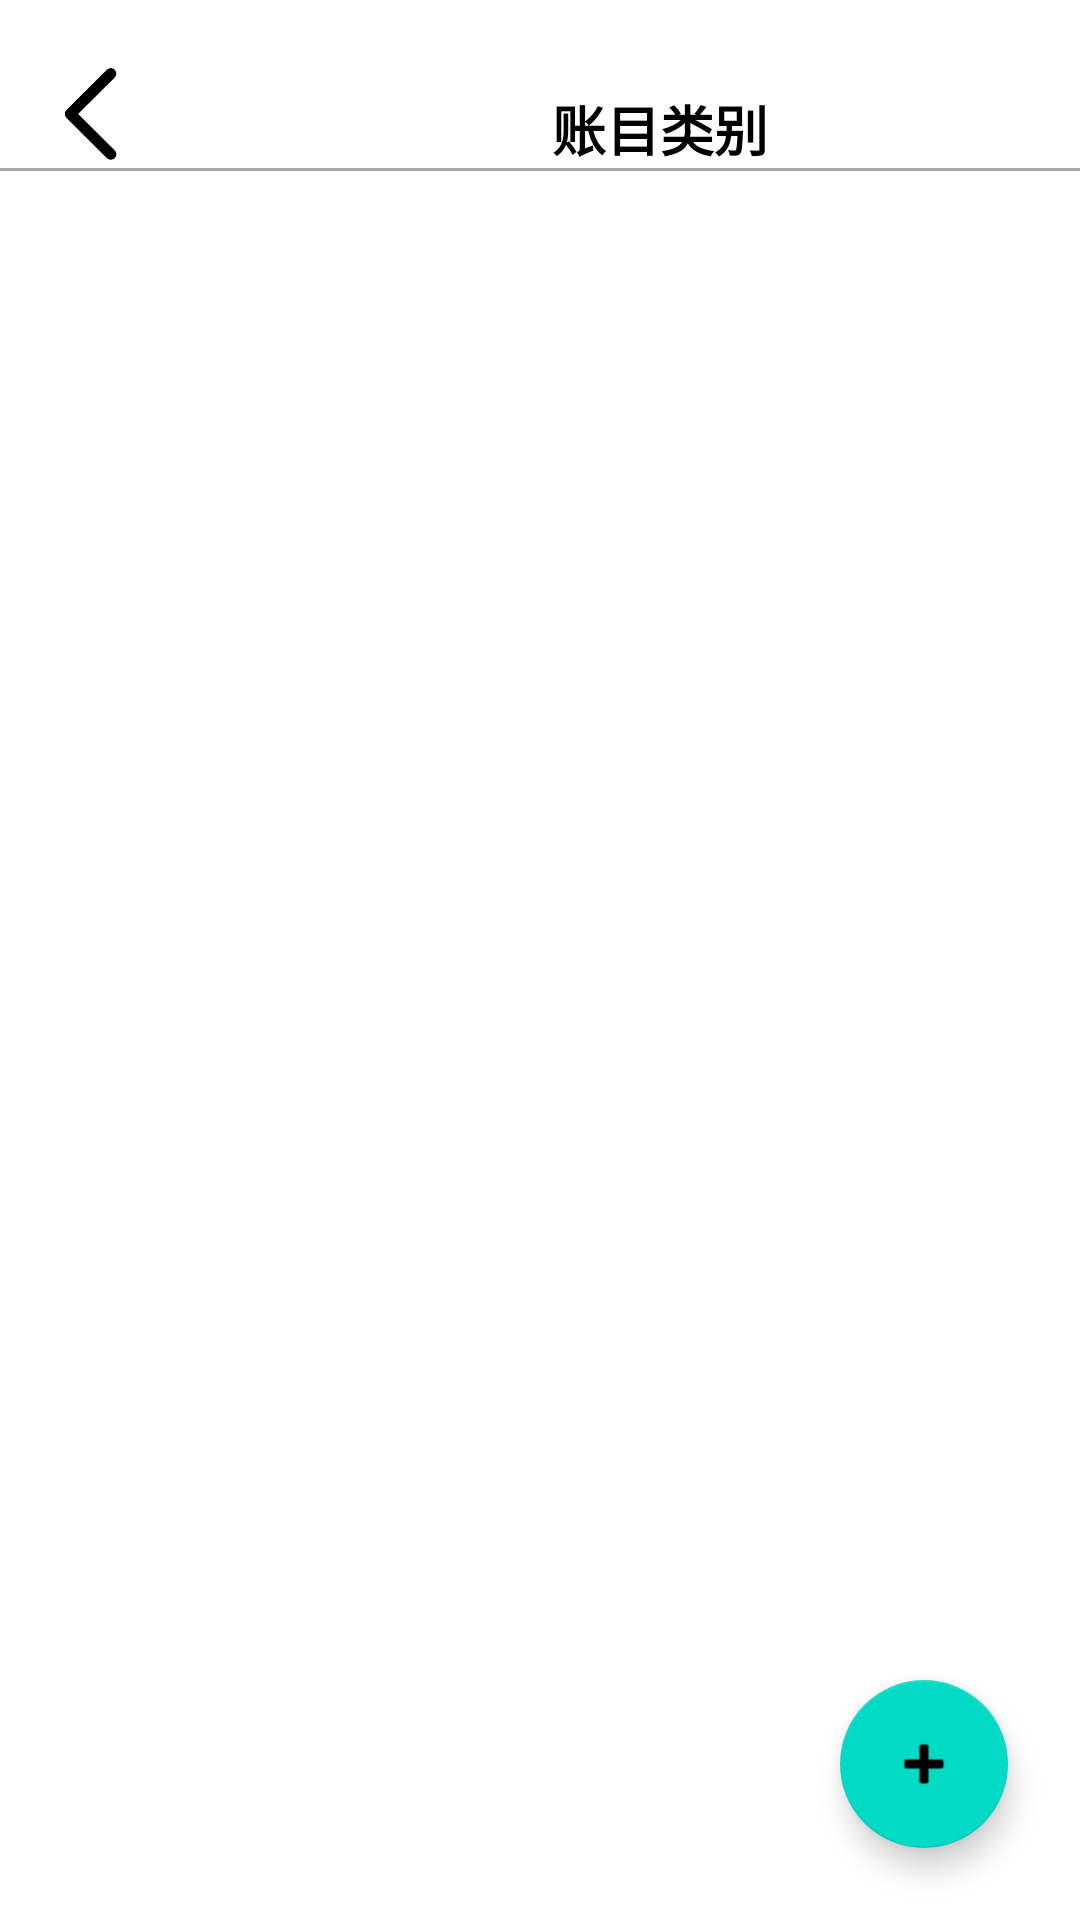

Icon bounding boxes for this 1080*1920 phone screenshot, format box(x1, y1, x2, y2):
add: box(840, 1680, 1008, 1848)
返回: box(65, 68, 117, 160)
